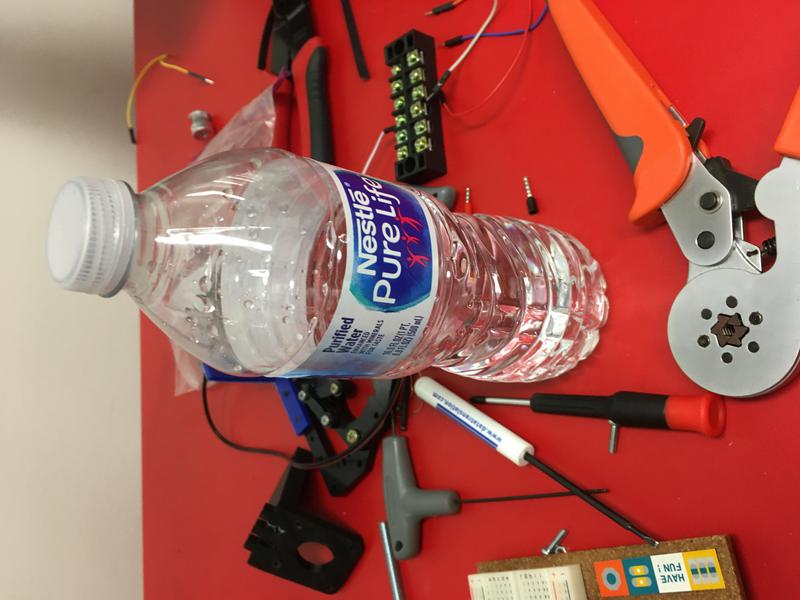bottle: (44, 144, 610, 384)
